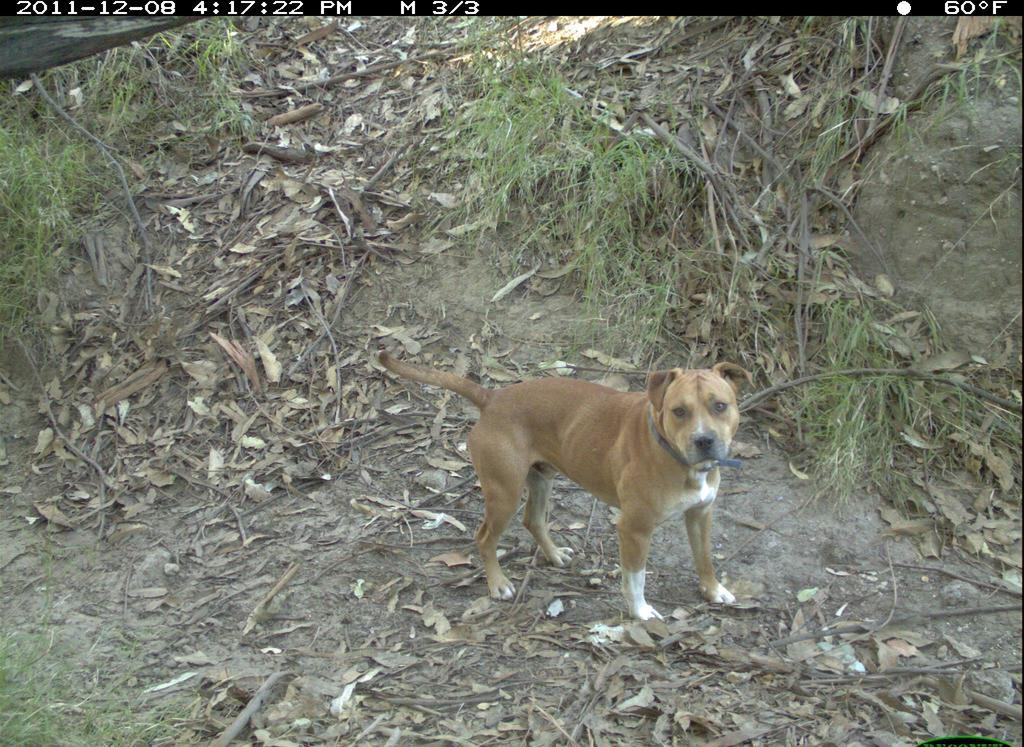dog: (370, 342, 764, 632)
